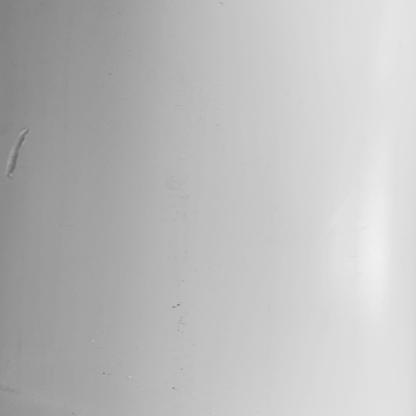sunshang: (5, 127, 31, 178)
